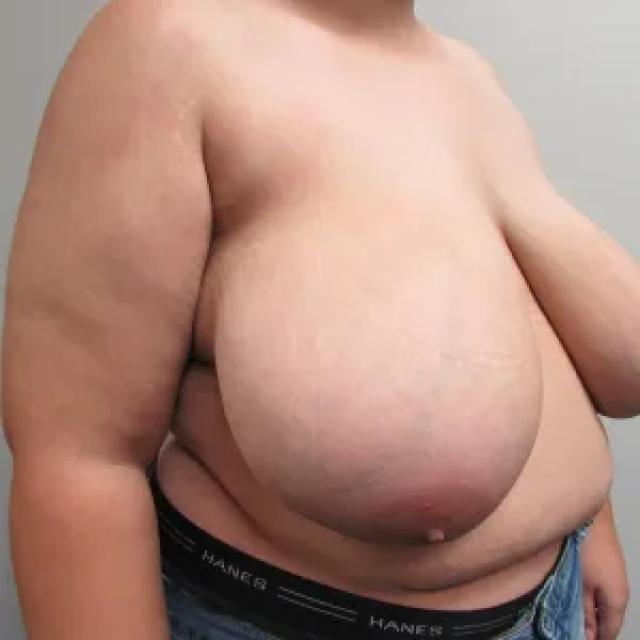Seno ileso: (206, 185, 544, 568), (550, 132, 640, 435)
